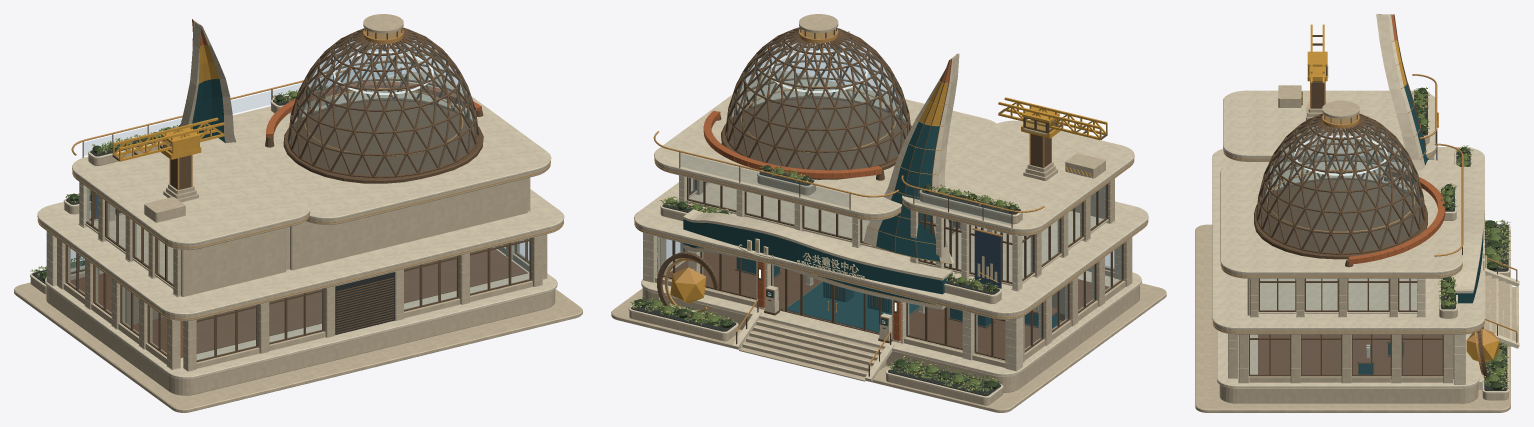
Rendered from public-construction-rebuilt.glb.
3 renders of one model, left to right at view 1: azimuth 30°, elevation 25°; view 2: azimuth 150°, elevation 25°; view 3: azimuth 270°, elevation 25°, orthographic. The views are drawn at different scales.
Visible parts, largest first — view 1: 01 Limestone facade, steps and terraces, 02 Bronze framework, dome lattice and crane, 03 Clear glazing, 04 Interior, furniture and illuminated displays, 06 Flowers and foliage; view 2: 01 Limestone facade, steps and terraces, 03 Clear glazing, 02 Bronze framework, dome lattice and crane, 04 Interior, furniture and illuminated displays, 06 Flowers and foliage, 05 Sculpture, terminals and banner; view 3: 01 Limestone facade, steps and terraces, 02 Bronze framework, dome lattice and crane, 03 Clear glazing, 04 Interior, furniture and illuminated displays, 06 Flowers and foliage, 05 Sculpture, terminals and banner.
Part boxes in pixels (<box>): 01 Limestone facade, steps and terraces: <box>14,19,582,412</box>; 02 Bronze framework, dome lattice and crane: <box>37,14,563,362</box>; 03 Clear glazing: <box>67,29,529,360</box>; 04 Interior, furniture and illuminated displays: <box>70,247,527,357</box>; 06 Flowers and foliage: <box>30,84,327,284</box>; 01 Limestone facade, steps and terraces: <box>611,53,1166,412</box>; 03 Clear glazing: <box>658,29,1121,358</box>; 02 Bronze framework, dome lattice and crane: <box>634,14,1148,376</box>; 04 Interior, furniture and illuminated displays: <box>668,252,1109,358</box>; 06 Flowers and foliage: <box>630,165,1020,396</box>; 05 Sculpture, terminals and banner: <box>657,228,1002,343</box>; 01 Limestone facade, steps and terraces: <box>1195,14,1519,412</box>; 02 Bronze framework, dome lattice and crane: <box>1212,14,1517,376</box>; 03 Clear glazing: <box>1250,116,1442,374</box>; 04 Interior, furniture and illuminated displays: <box>1258,334,1453,378</box>; 06 Flowers and foliage: <box>1412,87,1510,390</box>; 05 Sculpture, terminals and banner: <box>1436,112,1499,389</box>.
Size of the model in its own units: 22.8 by 15.38 by 16.85.
Materials: 19 (8 with a texture image).
